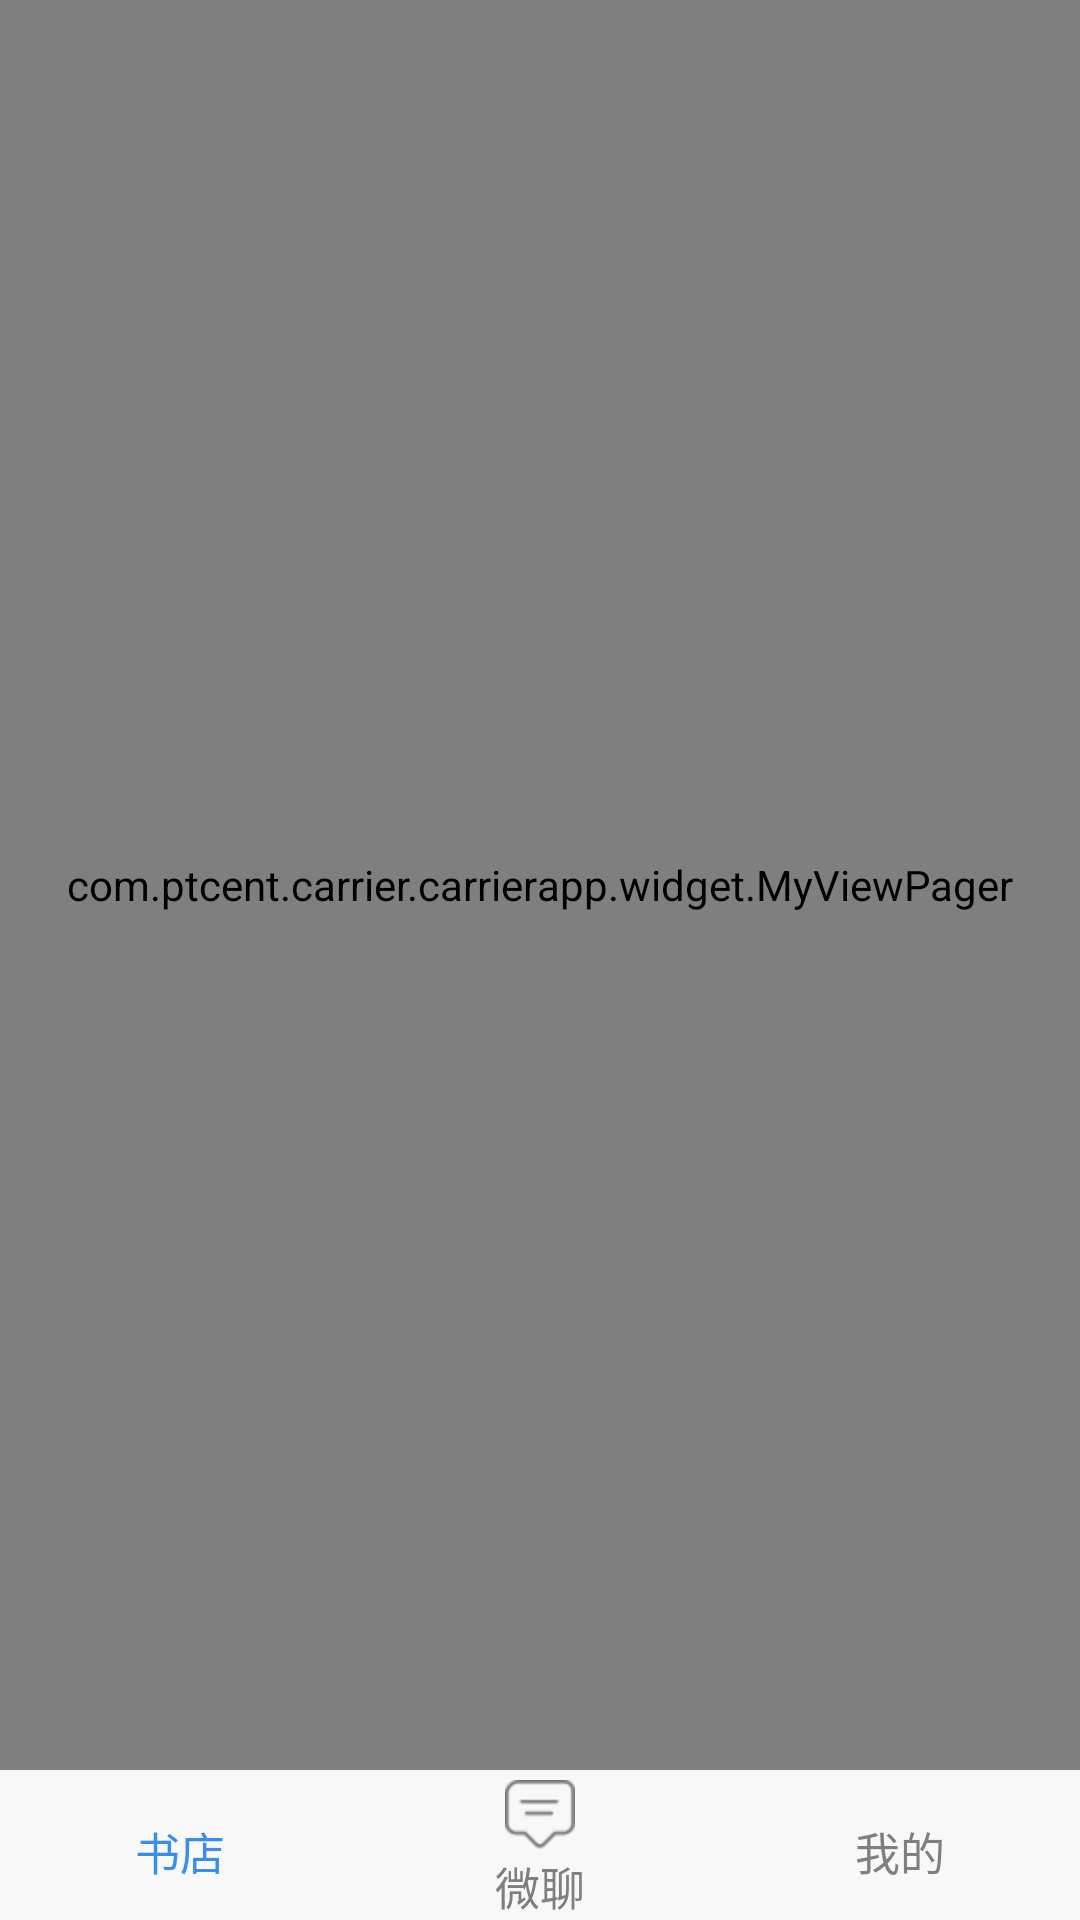

Point at icon controls on the screen. Image size 1080x1920, points as (x,y).
message nomal: (540,1814)
